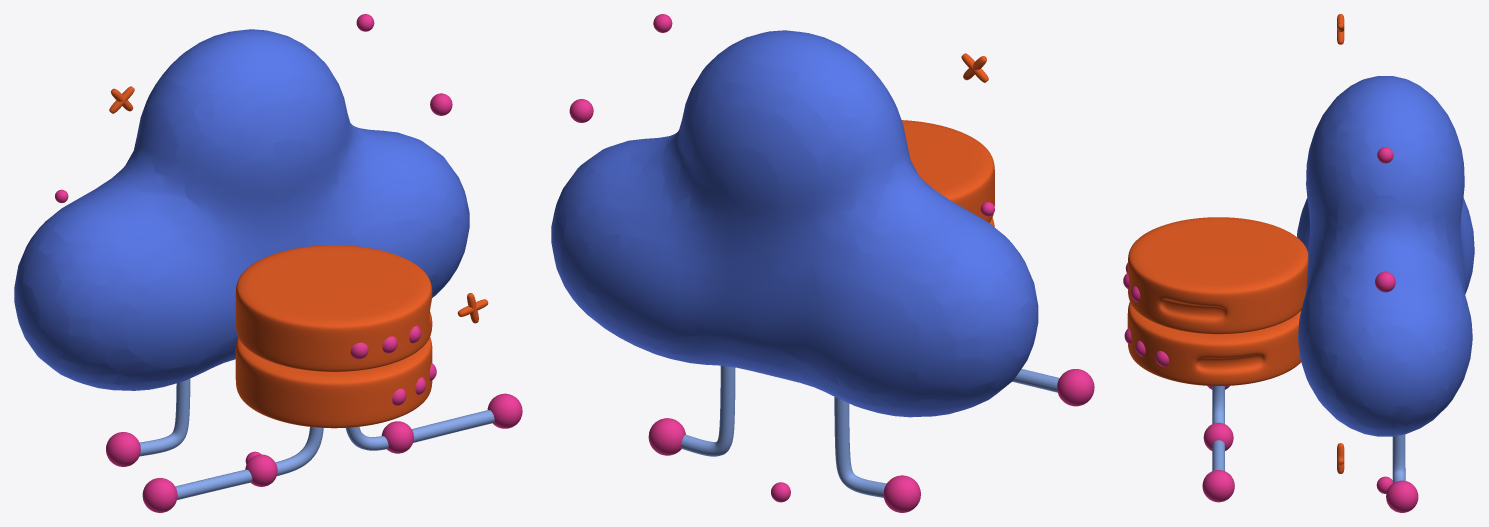
The model's file is cloud-3d-animated-icon-1515304636335.glb.
The picture shows the model from 3 angles, left to right: view 1: azimuth 30°, elevation 25°; view 2: azimuth 150°, elevation 25°; view 3: azimuth 270°, elevation 25°; orthographic projection. The views are drawn at different scales.
Parts seen in each view (by area): view 1: cloud, data.001, data.002, NurbsPath.004, sphere.001, sphere, sphere.005, sphere.002, sphere.004; view 2: cloud, data.001, NurbsPath.004, sphere, sphere.001, sphere.007; view 3: cloud, data.001, data.002, NurbsPath.004, sphere.007, sphere.005, sphere.004.
Boxes of the visible parts, x1=… form: cloud: x1=14, y1=29, x2=469, y2=390; data.001: x1=235, y1=245, x2=432, y2=371; data.002: x1=235, y1=337, x2=436, y2=428; NurbsPath.004: x1=139, y1=378, x2=494, y2=499; sphere.001: x1=142, y1=478, x2=177, y2=512; sphere: x1=106, y1=432, x2=140, y2=466; sphere.005: x1=487, y1=393, x2=522, y2=428; sphere.002: x1=245, y1=454, x2=277, y2=486; sphere.004: x1=381, y1=421, x2=413, y2=453; cloud: x1=551, y1=30, x2=1038, y2=417; data.001: x1=901, y1=120, x2=994, y2=222; NurbsPath.004: x1=681, y1=365, x2=1059, y2=497; sphere: x1=883, y1=475, x2=920, y2=512; sphere.001: x1=1057, y1=369, x2=1094, y2=406; sphere.007: x1=648, y1=418, x2=685, y2=455; cloud: x1=1297, y1=76, x2=1474, y2=436; data.001: x1=1123, y1=217, x2=1308, y2=334; data.002: x1=1124, y1=302, x2=1301, y2=385; NurbsPath.004: x1=1212, y1=386, x2=1405, y2=483; sphere.007: x1=1386, y1=480, x2=1418, y2=512; sphere.005: x1=1202, y1=470, x2=1234, y2=502; sphere.004: x1=1203, y1=422, x2=1233, y2=450.
Size of the model in its own units: 5.11 by 4.89 by 3.85.
